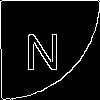N: (25, 25, 61, 70)
